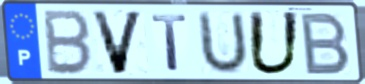B: (43, 8, 94, 78), (299, 11, 353, 77)
T: (149, 13, 190, 73)
U: (246, 9, 302, 77), (198, 10, 250, 77)
V: (88, 9, 146, 77)
